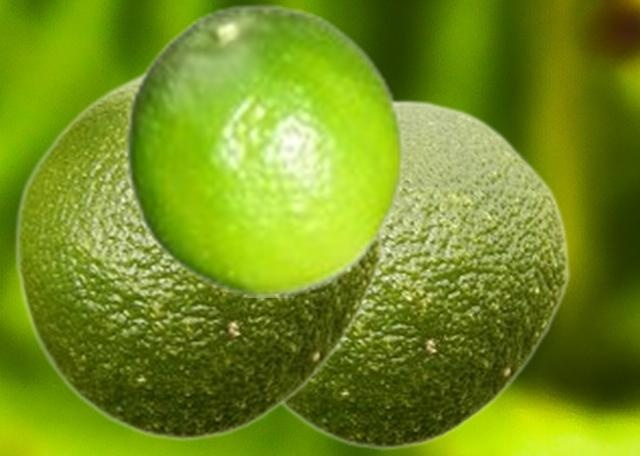calamansi: (13, 68, 383, 442), (281, 98, 569, 451), (124, 2, 406, 296)
